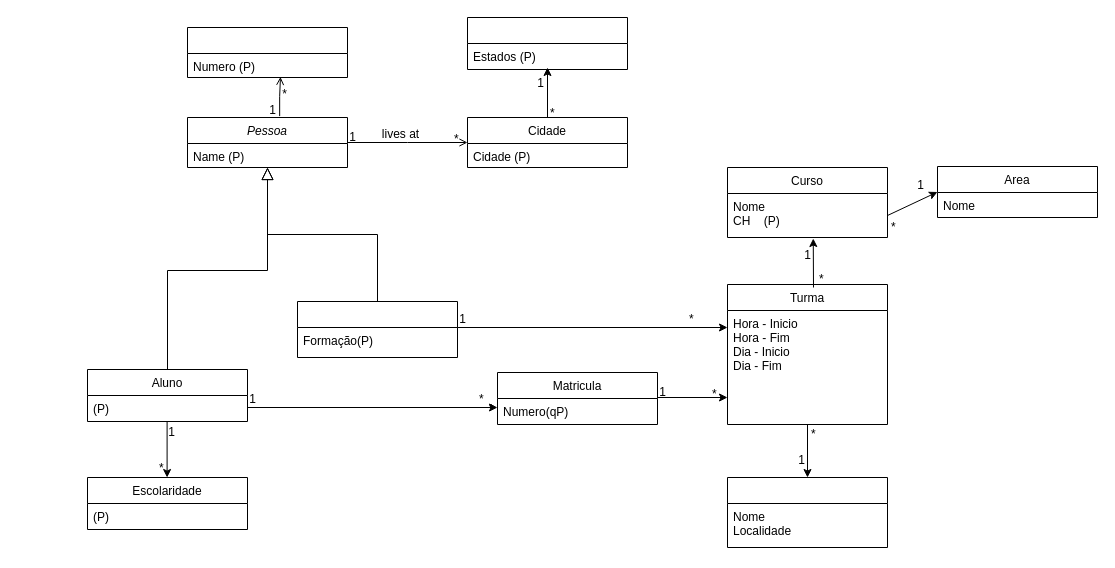
This 1115x568 diagram has some shape labels left out. Each missing label, with the box of its shape:
Filial: (726, 476, 888, 548)
Instrutor: (296, 300, 458, 358)
Telefone: (186, 26, 348, 78)
UF: (466, 16, 628, 70)
